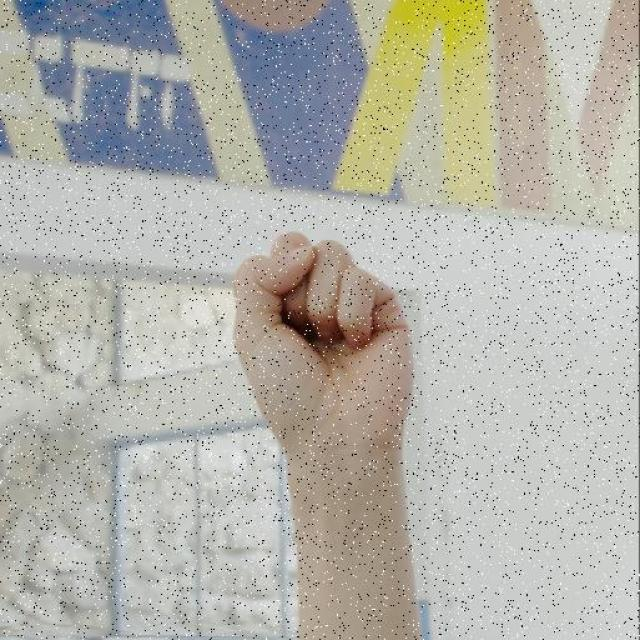S: (228, 227, 421, 454)
